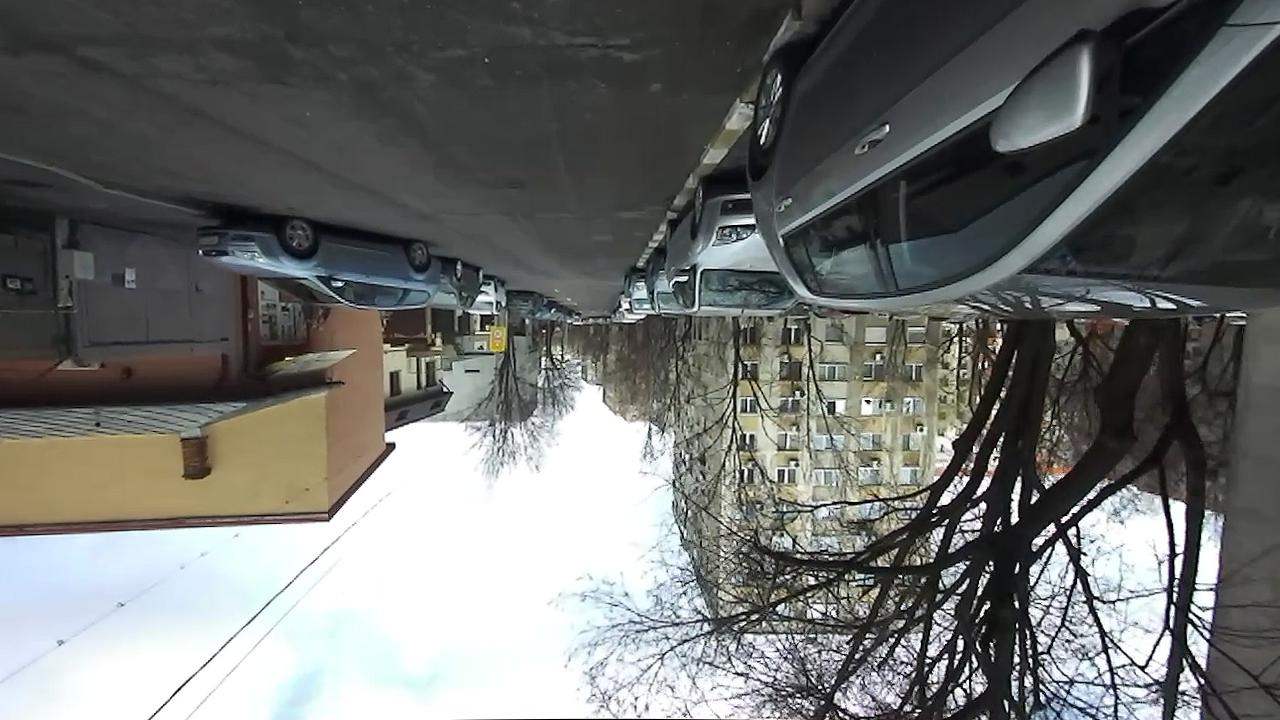pothole: (529, 34, 645, 63), (496, 179, 525, 194)
